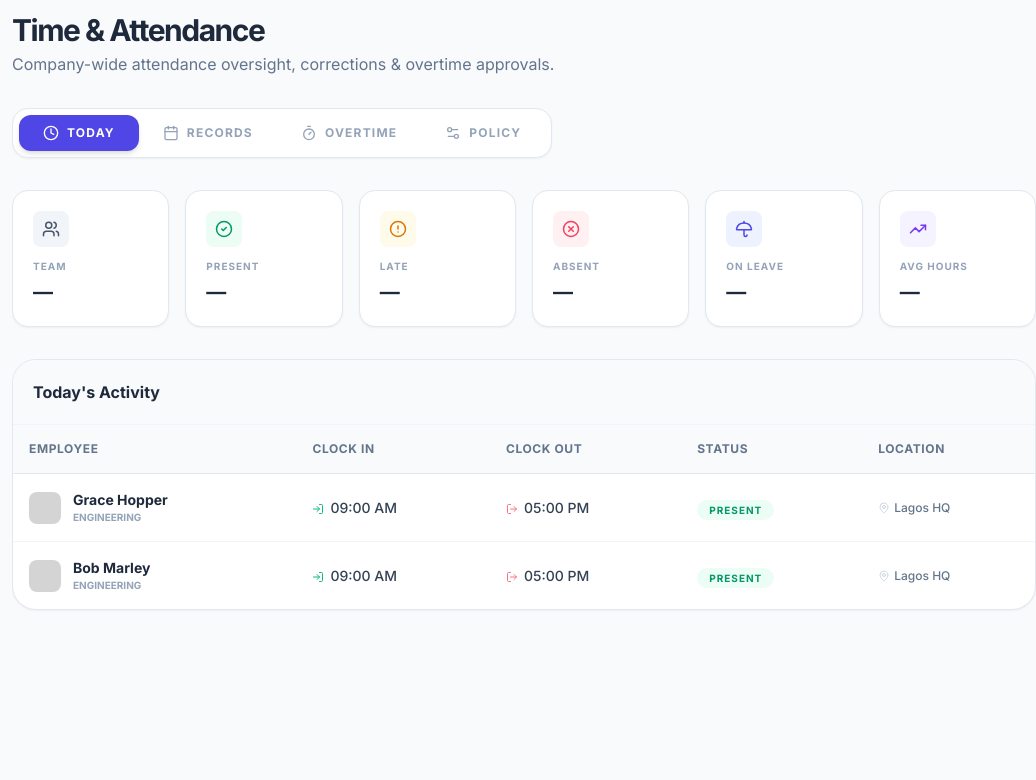
it: AttendanceManagement (admin) › Records tab › filters the record list by employee name
Click the button "Records": (208, 133) [139, 115, 277, 151]
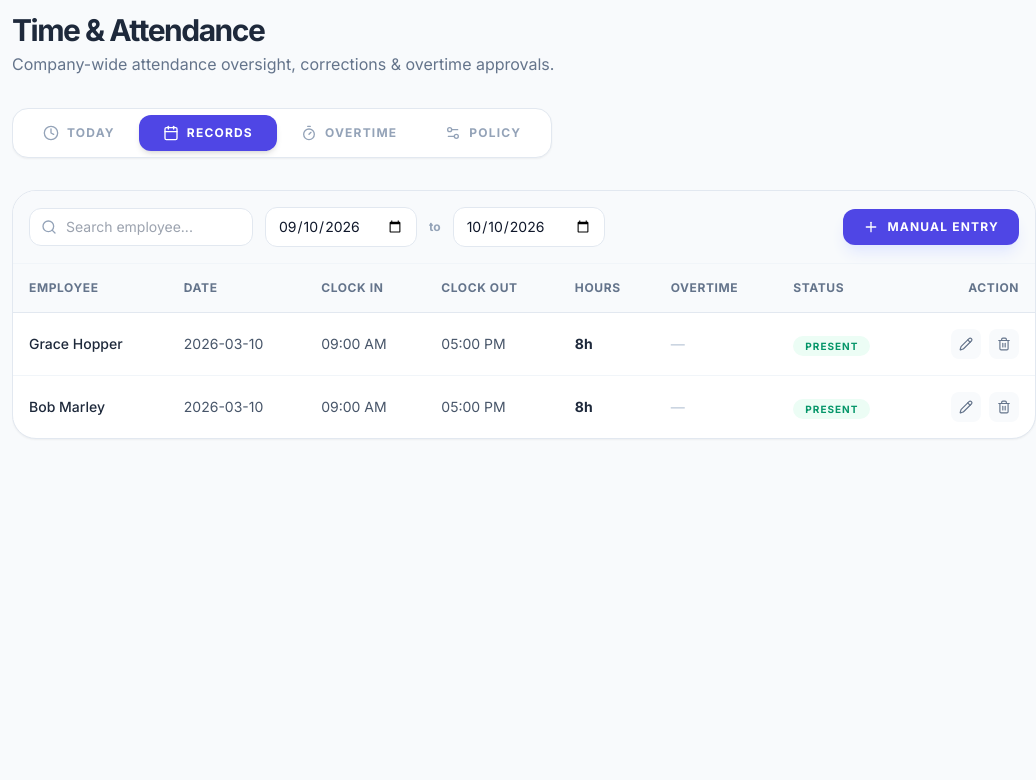
In the field with placeholder "Search employee...": (141, 227) [29, 208, 253, 246], type "bob"
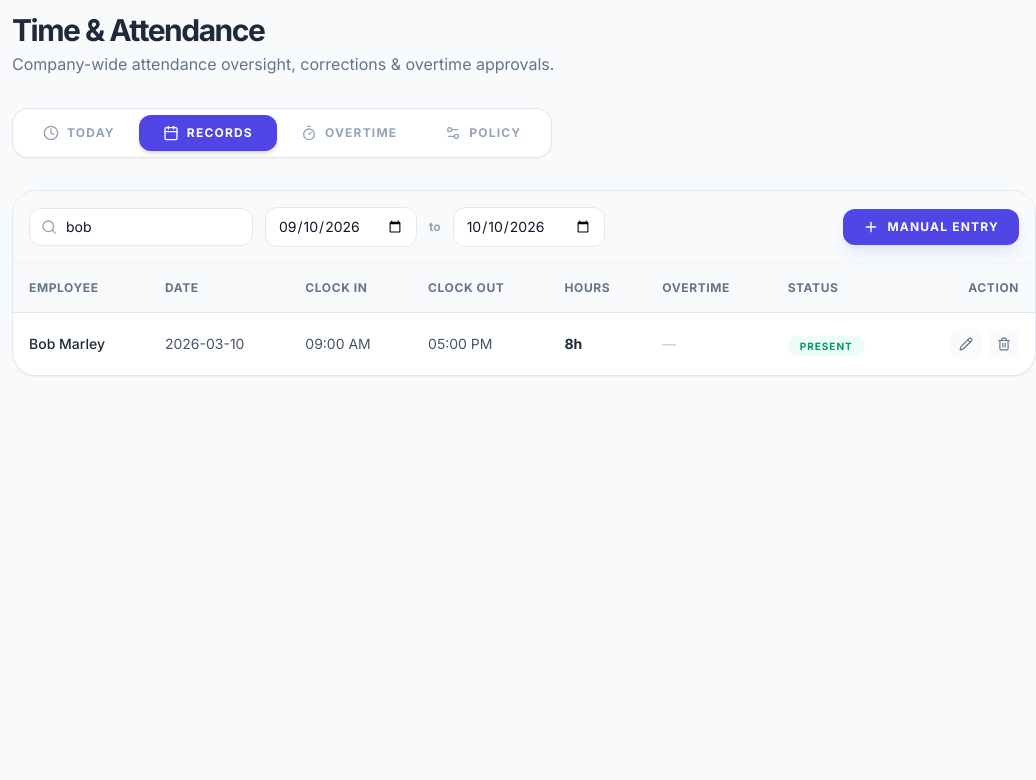
Check: the text "Bob Marley" is shown, box [13, 312, 149, 375]
Check: the text "Grace Hopper" is gone
